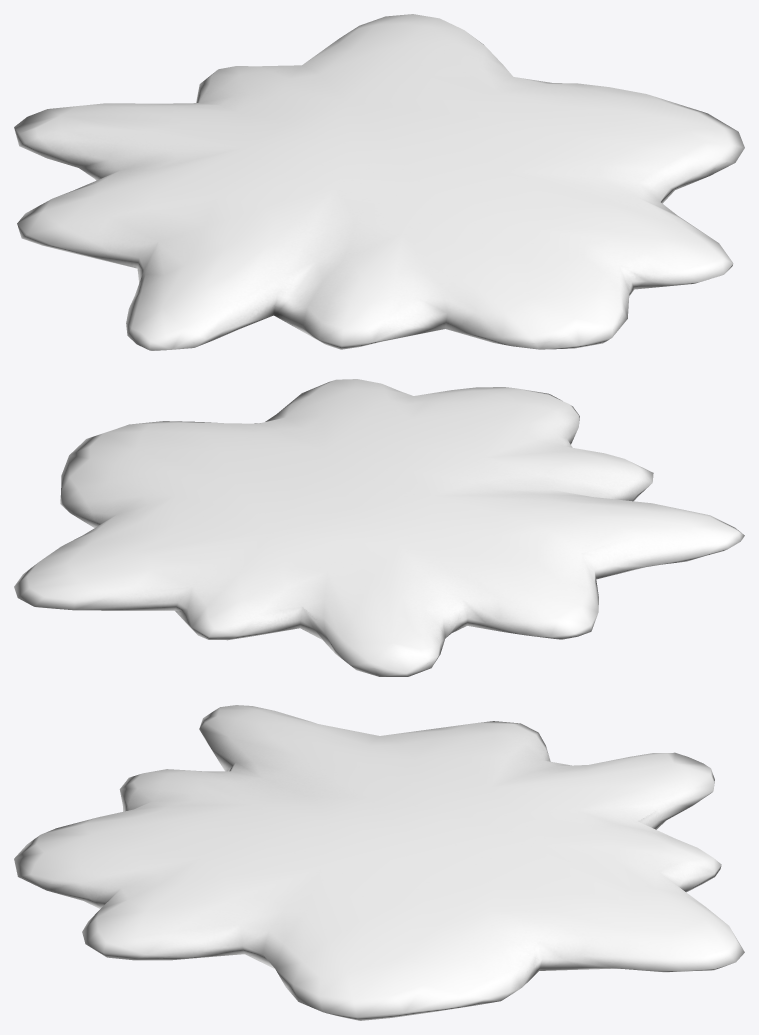
Rendered from Sauce.fbx.
3 renders of one model, top to bottom at view 1: azimuth 30°, elevation 25°; view 2: azimuth 150°, elevation 25°; view 3: azimuth 270°, elevation 25°, orthographic. The views are drawn at different scales.
Parts seen in each view (by area): view 1: Sauce; view 2: Sauce; view 3: Sauce.
Boxes of the visible parts, x1=… form: Sauce: x1=14, y1=14, x2=744, y2=350; Sauce: x1=14, y1=379, x2=744, y2=676; Sauce: x1=14, y1=705, x2=744, y2=1020.
Size of the model in its own units: 7.25 by 0.5978 by 7.24.
